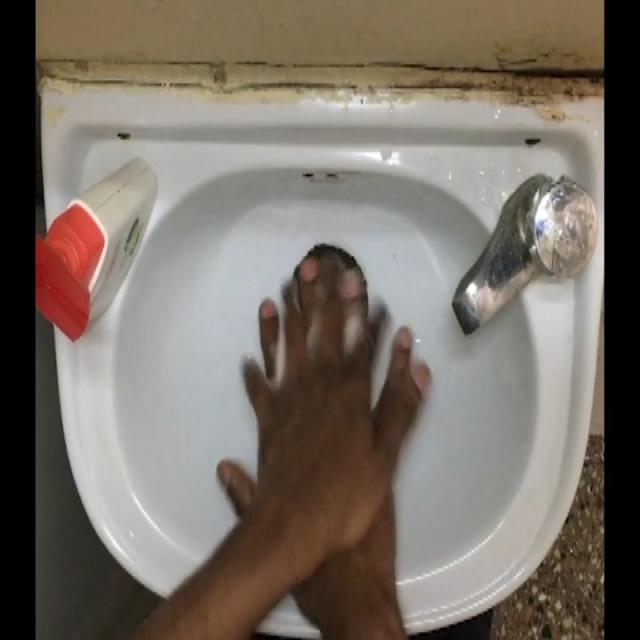step_2: (205, 246, 437, 552)
